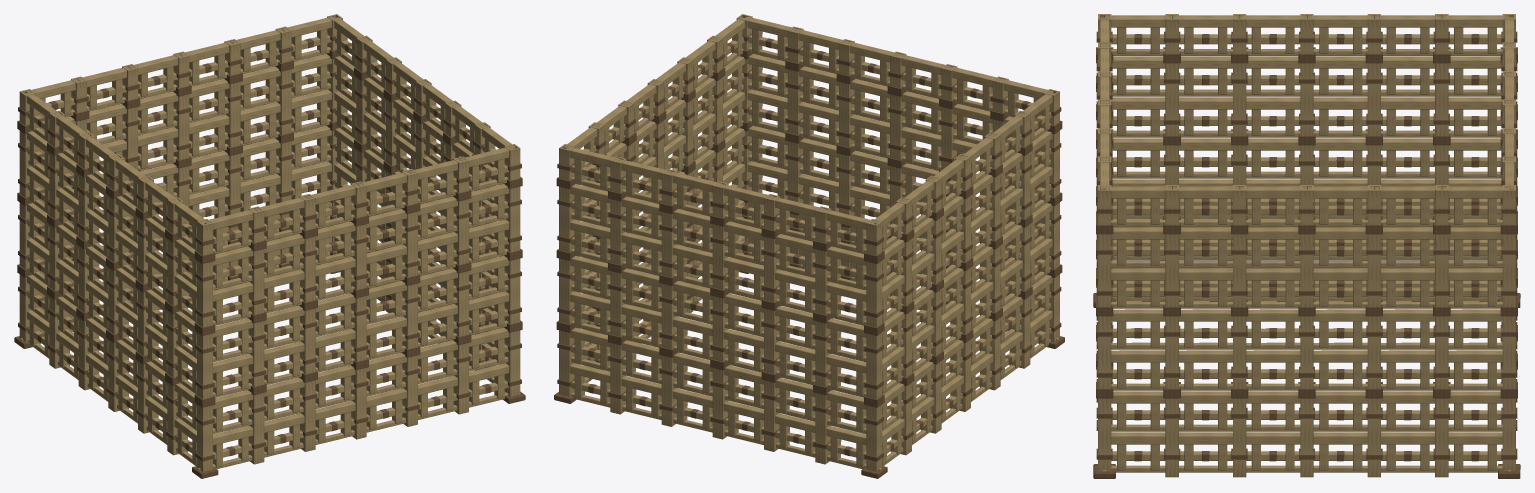
3 renders of one model, left to right at view 1: azimuth 30°, elevation 25°; view 2: azimuth 150°, elevation 25°; view 3: azimuth 270°, elevation 25°, orthographic. The views are drawn at different scales.
Parts seen in each view (by area): view 1: Tier 0 side 0 post 0, Tier 2 side 0 post 0, Tier 1 side 0 post 0, Tier 0 side 0 post 1, Tier 0 side 0 post 2, Tier 0 side 0 post 3, Tier 0 side 0 post 4, Tier 0 side 0 post 5, Tier 0 side 1 post 0, Tier 1 side 1 post 0, Tier 2 side 2 post 3, Tier 2 side 1 post 0 (+33 smaller); view 2: Tier 0 side 3 post 0, Tier 1 side 3 post 0, Tier 2 side 3 post 0, Tier 0 side 2 post 3, Tier 0 side 2 post 2, Tier 0 side 2 post 1, Tier 0 side 2 post 5, Tier 0 side 2 post 4, Tier 2 side 0 post 5, Tier 1 side 2 post 3, Tier 2 side 2 post 3, Tier 1 side 2 post 2 (+33 smaller); view 3: Tier 0 side 1 post 1, Tier 0 side 1 post 3, Tier 0 side 1 post 5, Tier 0 side 1 post 2, Tier 0 side 1 post 4, Tier 0 side 1 post 0, Tier 0 side 2 post 0, Tier 1 side 1 post 1, Tier 1 side 1 post 3, Tier 1 side 1 post 5, Tier 2 side 1 post 1, Tier 2 side 1 post 3 (+97 smaller).
Boxes of the visible parts, x1,y1,x2,y2 form: Tier 0 side 0 post 0: [197, 404, 212, 471]; Tier 2 side 0 post 0: [197, 260, 212, 327]; Tier 1 side 0 post 0: [197, 332, 212, 399]; Tier 0 side 0 post 1: [248, 393, 264, 464]; Tier 0 side 0 post 2: [300, 380, 315, 451]; Tier 0 side 0 post 3: [351, 368, 366, 439]; Tier 0 side 0 post 4: [402, 355, 417, 426]; Tier 0 side 0 post 5: [453, 343, 468, 414]; Tier 0 side 1 post 0: [504, 330, 520, 396]; Tier 1 side 1 post 0: [504, 258, 520, 324]; Tier 2 side 2 post 3: [173, 94, 189, 159]; Tier 2 side 1 post 0: [504, 186, 520, 252]; Tier 0 side 3 post 0: [866, 404, 882, 471]; Tier 1 side 3 post 0: [866, 332, 882, 399]; Tier 2 side 3 post 0: [866, 261, 882, 327]; Tier 0 side 2 post 3: [712, 368, 728, 439]; Tier 0 side 2 post 2: [661, 355, 677, 426]; Tier 0 side 2 post 1: [610, 343, 625, 414]; Tier 0 side 2 post 5: [815, 393, 830, 464]; Tier 0 side 2 post 4: [764, 380, 779, 451]; Tier 2 side 0 post 5: [787, 69, 803, 134]; Tier 1 side 2 post 3: [712, 296, 728, 361]; Tier 2 side 2 post 3: [712, 224, 728, 289]; Tier 1 side 2 post 2: [661, 283, 677, 349]; Tier 0 side 1 post 1: [1165, 398, 1178, 477]; Tier 0 side 1 post 3: [1300, 398, 1313, 477]; Tier 0 side 1 post 5: [1435, 398, 1448, 477]; Tier 0 side 1 post 2: [1233, 398, 1246, 477]; Tier 0 side 1 post 4: [1367, 398, 1380, 477]; Tier 0 side 1 post 0: [1098, 398, 1111, 471]; Tier 0 side 2 post 0: [1502, 398, 1515, 471]; Tier 1 side 1 post 1: [1165, 316, 1178, 388]; Tier 1 side 1 post 3: [1300, 316, 1313, 388]; Tier 1 side 1 post 5: [1435, 316, 1448, 388]; Tier 2 side 1 post 1: [1165, 234, 1178, 306]; Tier 2 side 1 post 3: [1300, 234, 1313, 306].
Bounding box in the file's own units: 2.85 × 2.11 × 2.85.
2 materials, 2 textured.
